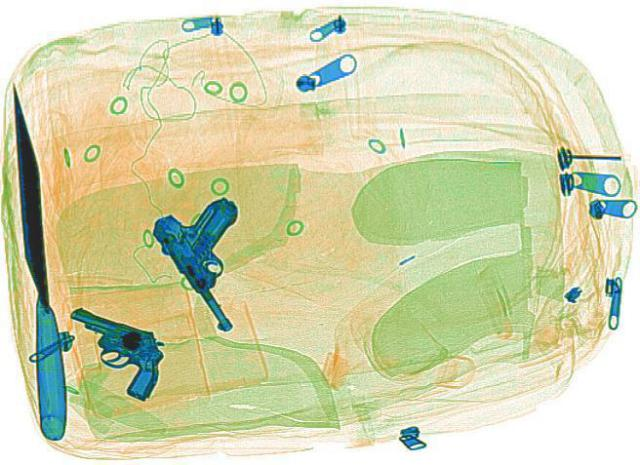Gun: (142, 194, 304, 333), (31, 304, 187, 399)
Knife: (4, 80, 68, 439)
